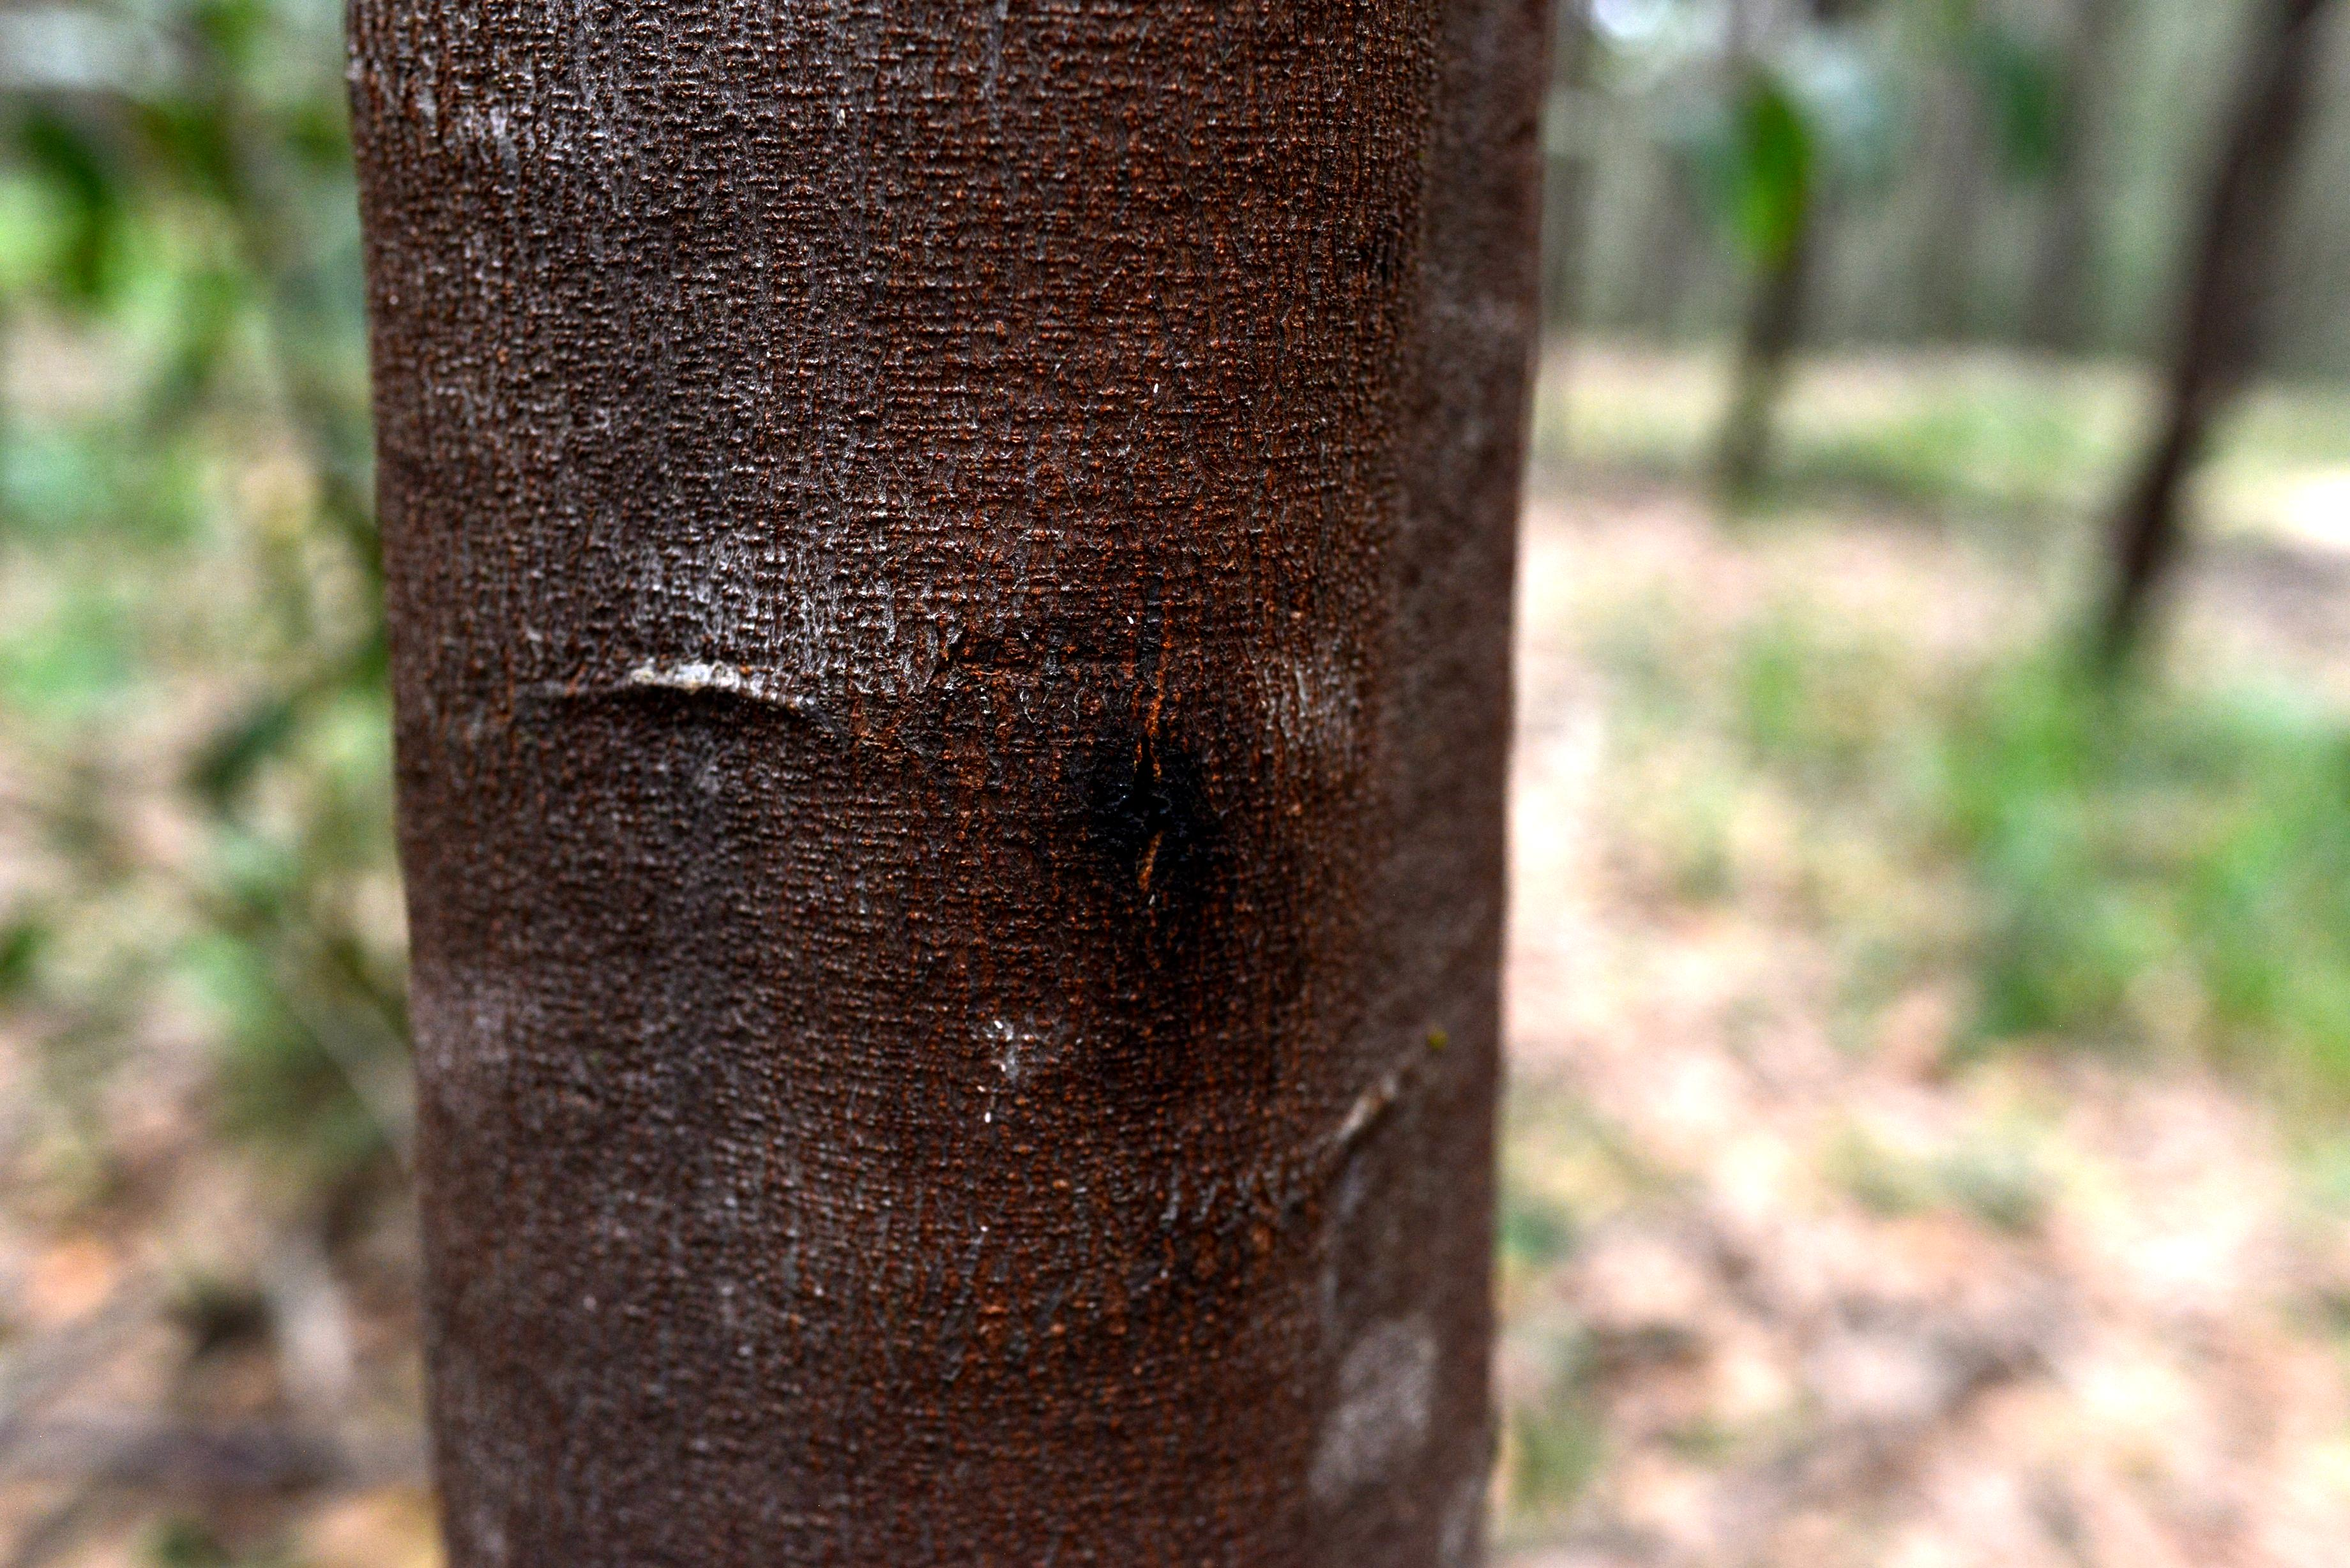Stem Borer: (1036, 654, 1237, 1095)
